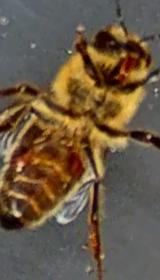varroa_mite: (4, 131, 44, 176), (68, 153, 86, 180)
